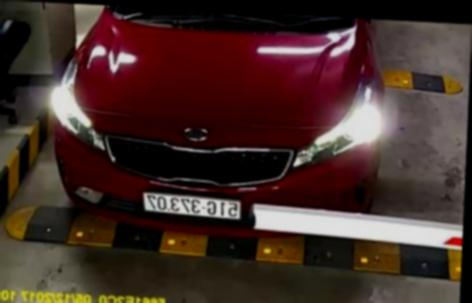License_Plate: (133, 186, 255, 229)
